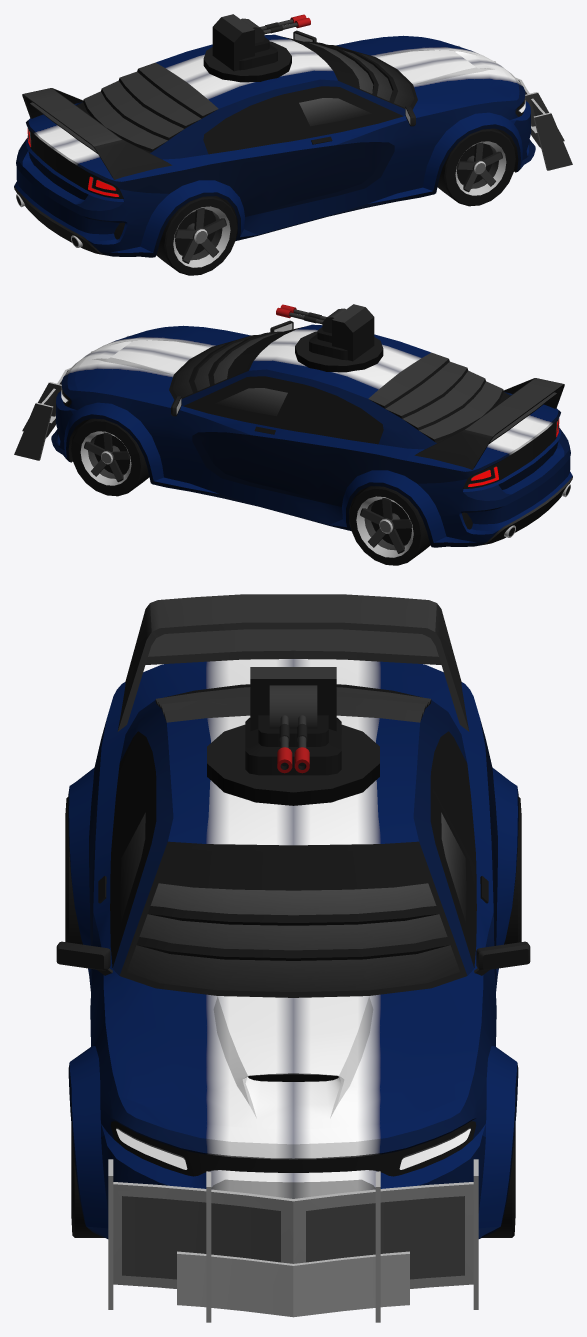
Rendered from RaceCar_006.glb.
3 views of the same model, one above another, from view 1: azimuth 30°, elevation 25°; view 2: azimuth 150°, elevation 25°; view 3: azimuth 270°, elevation 25° (orthographic). The views are drawn at different scales.
Parts seen in each view (by area): view 1: RaceCar_006, wheel_3_RaceCar_006_Wheel_2R, wheel_1_RaceCar_006_Wheel_1R; view 2: RaceCar_006, wheel_2_RaceCar_006_Wheel_2L, wheel_0_RaceCar_006_Wheel_1L; view 3: RaceCar_006, wheel_2_RaceCar_006_Wheel_2L, wheel_3_RaceCar_006_Wheel_2R, wheel_0_RaceCar_006_Wheel_1L, wheel_1_RaceCar_006_Wheel_1R.
Boxes of the visible parts, bbox=[...] form: RaceCar_006: bbox=[14, 14, 572, 257]; wheel_3_RaceCar_006_Wheel_2R: bbox=[156, 196, 237, 275]; wheel_1_RaceCar_006_Wheel_1R: bbox=[437, 128, 515, 206]; RaceCar_006: bbox=[14, 304, 572, 547]; wheel_2_RaceCar_006_Wheel_2L: bbox=[349, 486, 430, 565]; wheel_0_RaceCar_006_Wheel_1L: bbox=[71, 418, 149, 496]; RaceCar_006: bbox=[56, 594, 530, 1322]; wheel_2_RaceCar_006_Wheel_2L: bbox=[504, 797, 521, 944]; wheel_3_RaceCar_006_Wheel_2R: bbox=[65, 797, 82, 944]; wheel_0_RaceCar_006_Wheel_1L: bbox=[482, 1125, 515, 1237]; wheel_1_RaceCar_006_Wheel_1R: bbox=[71, 1125, 104, 1237].
Bounding box in the file's own units: 5.17 × 1.84 × 2.1.
Materials: 2 (2 with a texture image).
